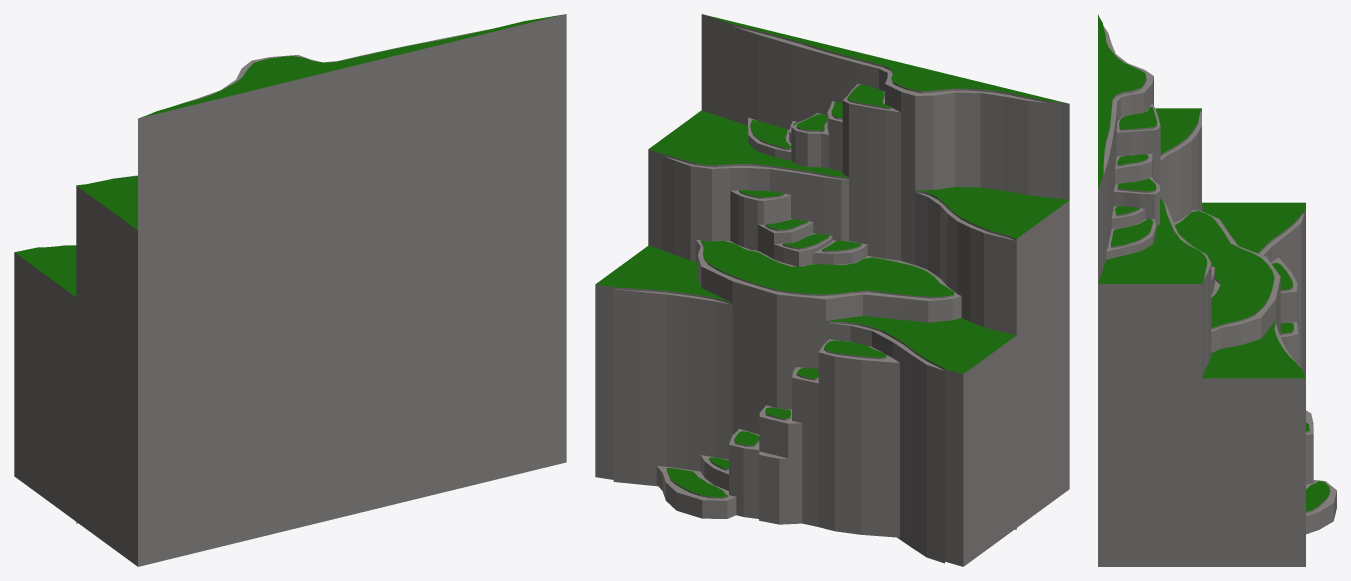
File: Stair2.fbx
3 views of the same model, side by side, from view 1: azimuth 30°, elevation 25°; view 2: azimuth 150°, elevation 25°; view 3: azimuth 270°, elevation 25° (orthographic). The views are drawn at different scales.
Visible parts, largest first — view 1: Plane.030; view 2: Plane.030; view 3: Plane.030.
Part boxes in pixels (left/top/right/bottom): Plane.030: left=14, top=14, right=566, bottom=566; Plane.030: left=595, top=14, right=1069, bottom=566; Plane.030: left=1098, top=14, right=1336, bottom=566.
Bounding box in the file's own units: 100 × 101 × 57.41.
